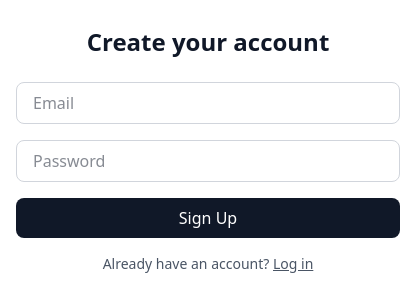
Test: RegisterPage › shows an error message when registration fails
Type "dup@example.com" into the field with placeholder "Email". click: (208, 103)
box: [16,82,400,124]
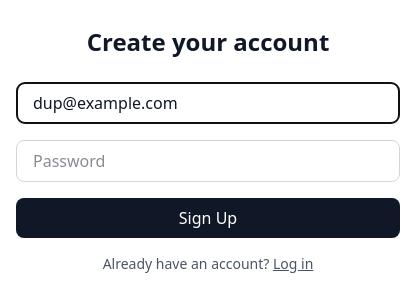
Type "password123" into the password field with placeholder "Password". click: (208, 161)
box: [16,140,400,182]
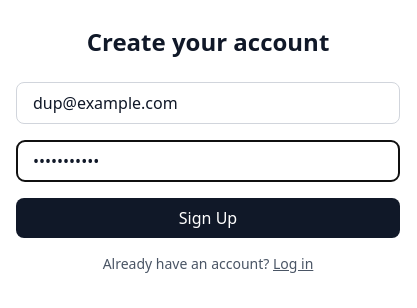
Click the button "Sign Up". click: (208, 218)
box: [16,198,400,238]
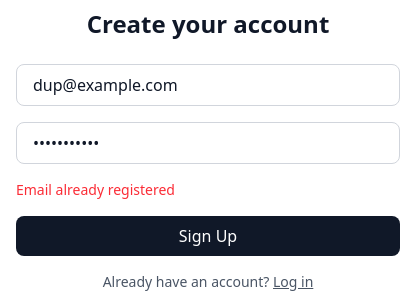
Expected: the text "Email already registered" is shown, [16,180,175,199]
